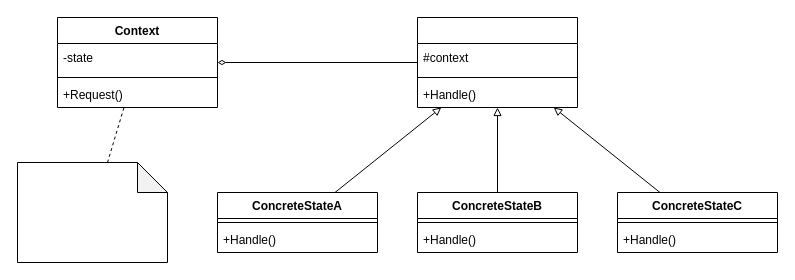
The diagram is 795 pixels wide and 280 high, and some of its shapes have lost their labels. Here are the shapes that lost their labels. From the top down, the box of each, then its label:
(416, 16, 578, 108): State
(16, 162, 168, 262): function Request(){ state.Handle(); }
